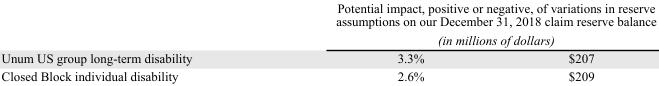table: (0, 0, 655, 82)
table column: (0, 0, 263, 82), (263, 0, 495, 82), (495, 0, 655, 82)
table column header: (0, 0, 655, 66)
table row: (0, 0, 655, 48), (0, 48, 655, 66), (0, 66, 655, 82)
table spanning cell: (263, 0, 655, 48), (0, 0, 263, 66)
